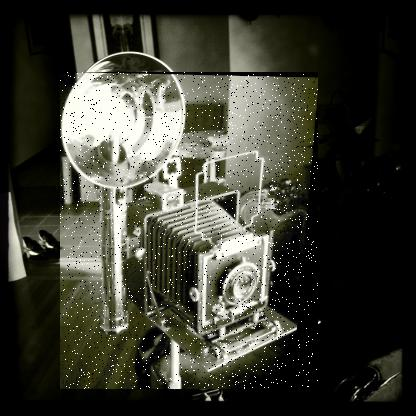Camera: (61, 73, 320, 391)
